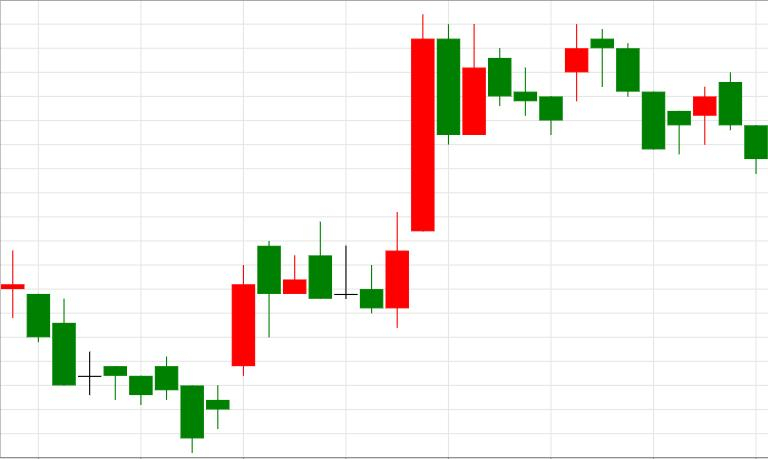bullish_engulfing_rise: (258, 212, 409, 338)
